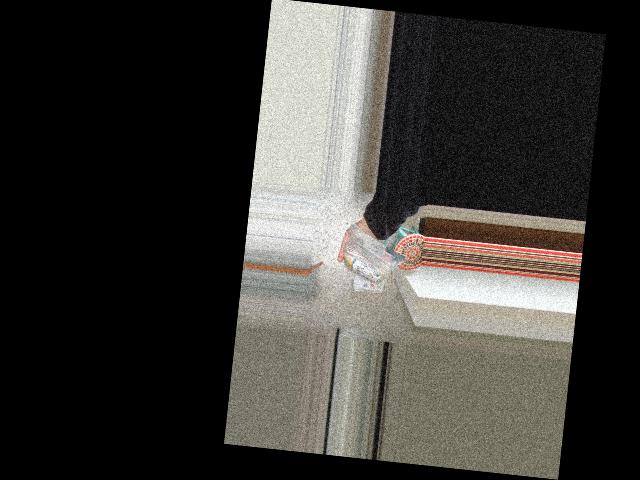cheese: (351, 233, 386, 300)
